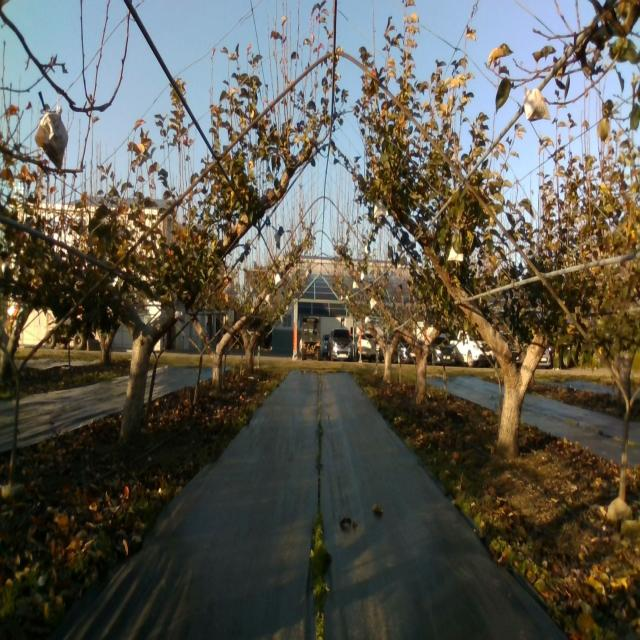pearbags: (35, 105, 69, 169), (523, 86, 551, 121), (175, 300, 186, 322), (374, 199, 386, 218)
